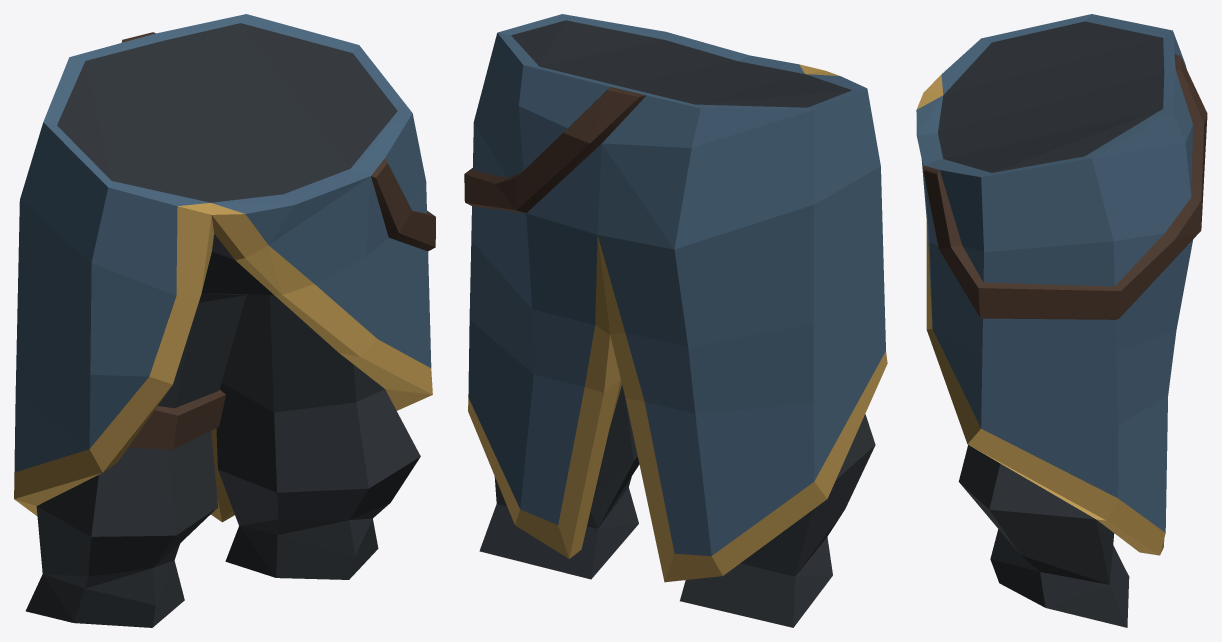
The model's file is Chr_Hips_Male_04_Static.fbx.
The picture shows the model from 3 angles, left to right: view 1: azimuth 30°, elevation 25°; view 2: azimuth 150°, elevation 25°; view 3: azimuth 270°, elevation 25°; orthographic projection. The views are drawn at different scales.
Parts seen in each view (by area): view 1: Chr_Hips_Male_04_Static; view 2: Chr_Hips_Male_04_Static; view 3: Chr_Hips_Male_04_Static.
Boxes of the visible parts, x1=… form: Chr_Hips_Male_04_Static: x1=14, y1=14, x2=435, y2=627; Chr_Hips_Male_04_Static: x1=464, y1=14, x2=887, y2=627; Chr_Hips_Male_04_Static: x1=916, y1=14, x2=1207, y2=627.
Size of the model in its own units: 0.3999 by 0.5545 by 0.3006.
